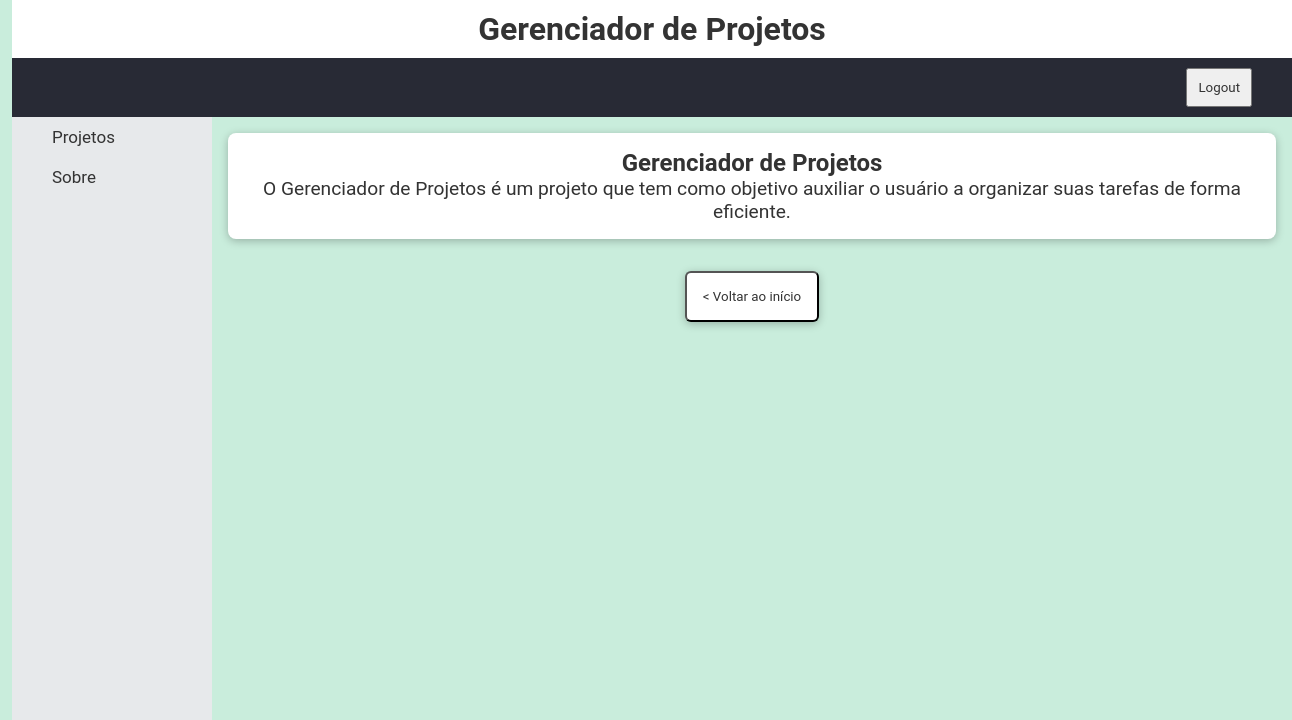
Test: App › should not render login when user is logged in
The image size is (1292, 720).
Expected: the 2nd heading "Gerenciador de Projetos" is shown, x1=622 y1=149 x2=882 y2=177
Click the button "Projetos" at (112, 137), box x1=12 y1=117 x2=212 y2=157
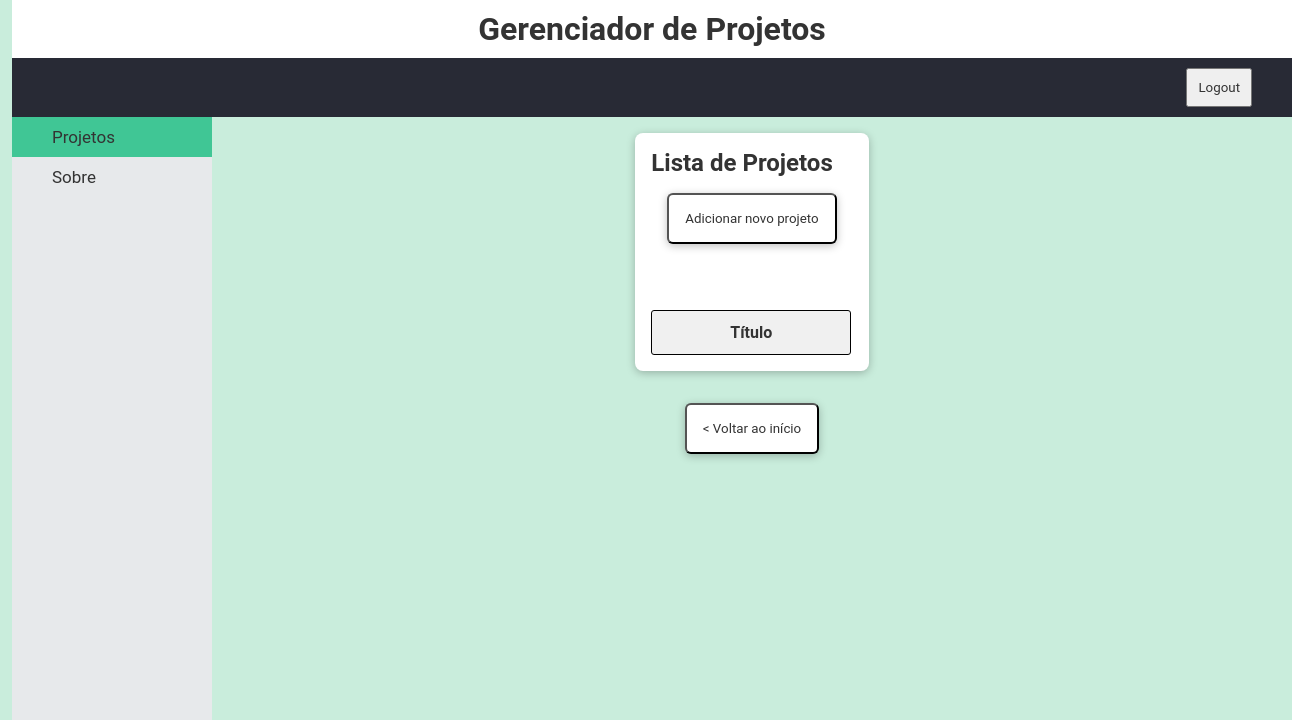
Expected: the heading "Lista de Projetos" is shown, x1=651 y1=149 x2=853 y2=177
